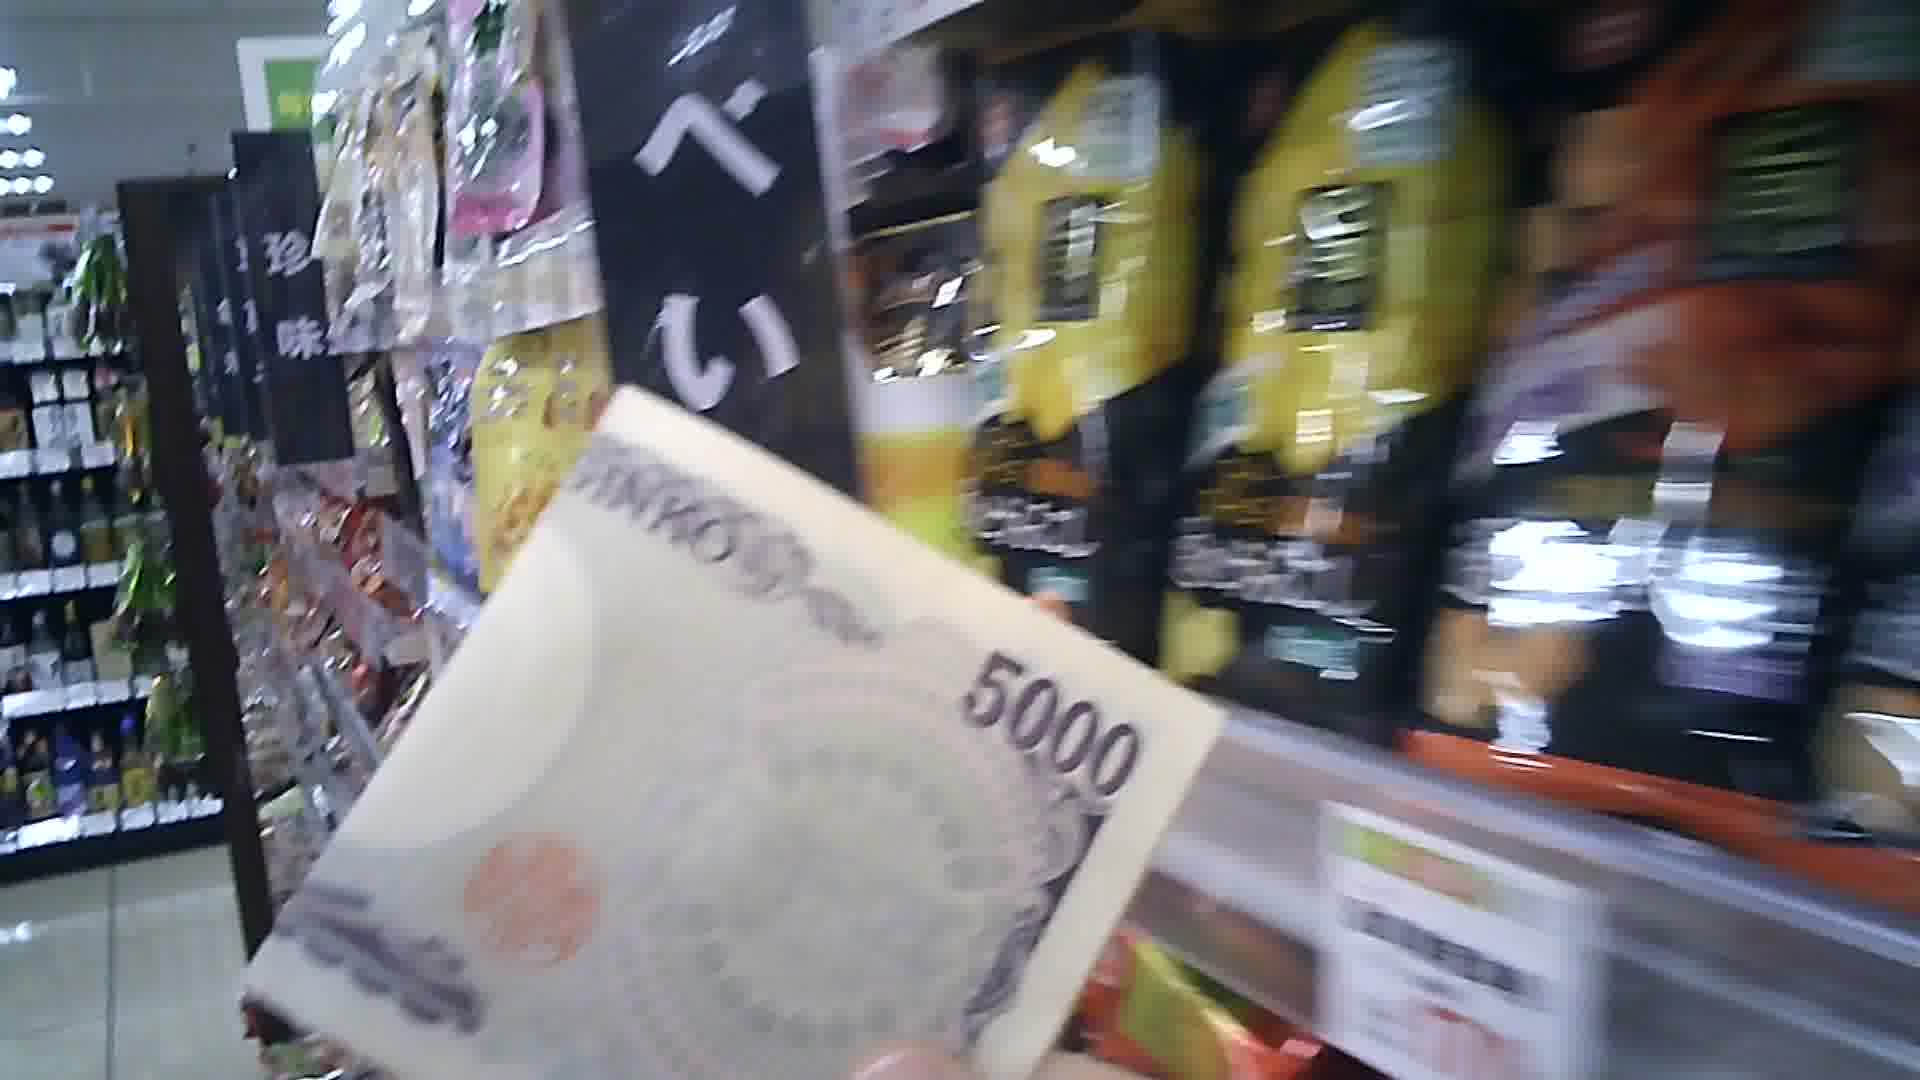5,000 Yen: (257, 361, 1225, 1077)
